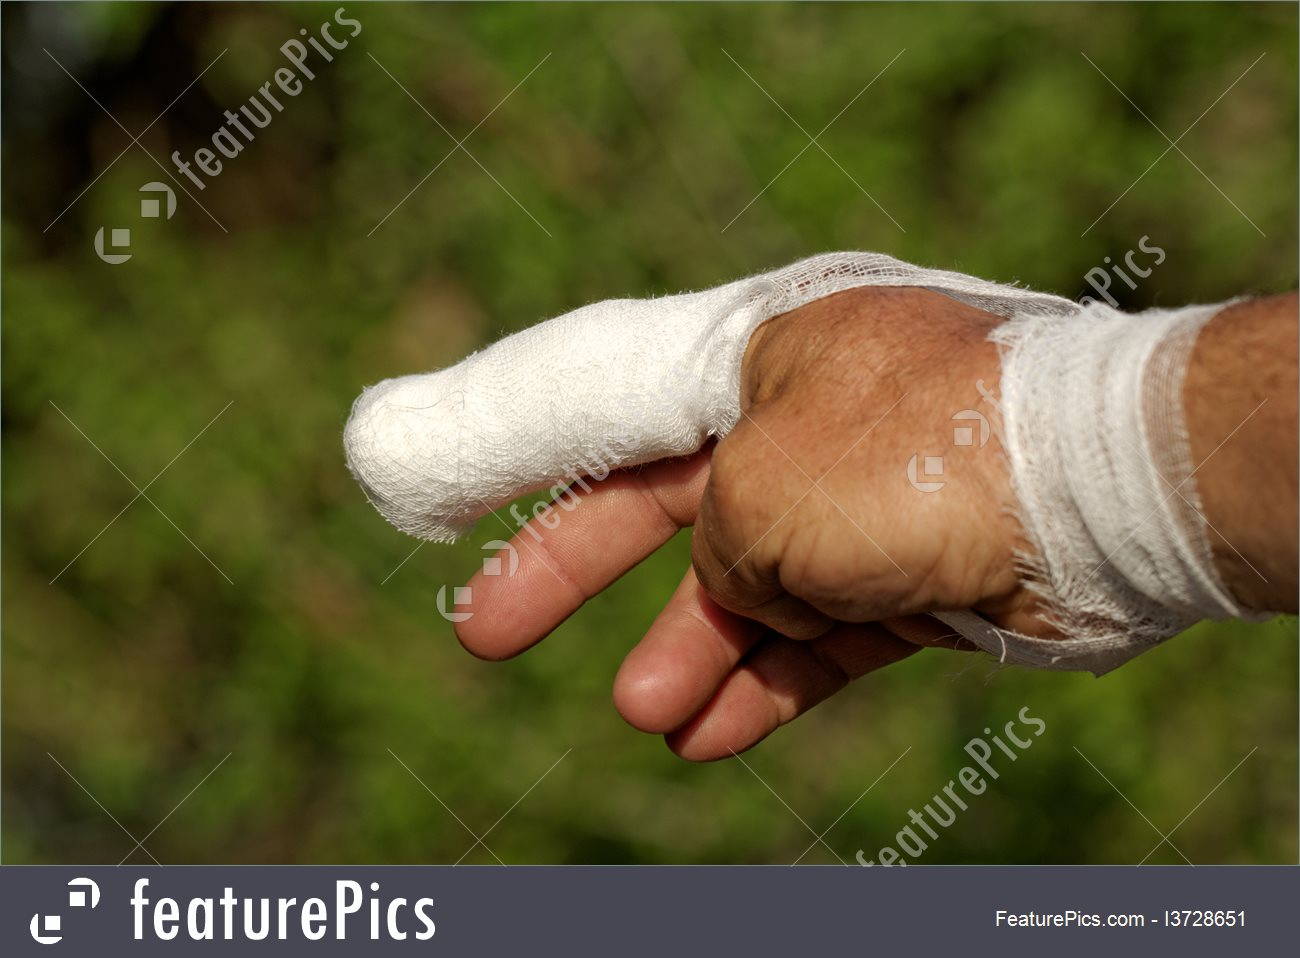injured: (303, 342, 1207, 668)
